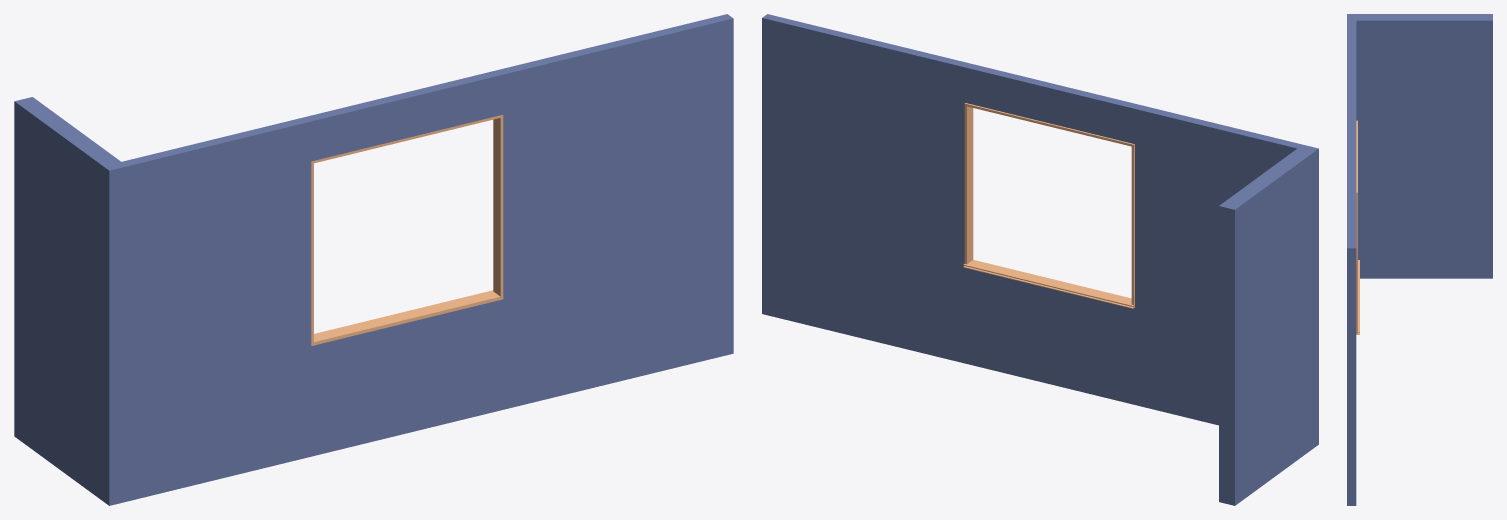
The model's file is wall.fbx.
3 renders of one model, left to right at view 1: azimuth 30°, elevation 25°; view 2: azimuth 150°, elevation 25°; view 3: azimuth 270°, elevation 25°, orthographic. The views are drawn at different scales.
Parts seen in each view (by area): view 1: Wall; view 2: Wall; view 3: Wall.
Boxes of the visible parts, <box> form: Wall: <box>14,14,733,505</box>; Wall: <box>762,14,1318,505</box>; Wall: <box>1347,14,1492,505</box>.
Size of the model in its own units: 12.16 by 6.24 by 3.2.
